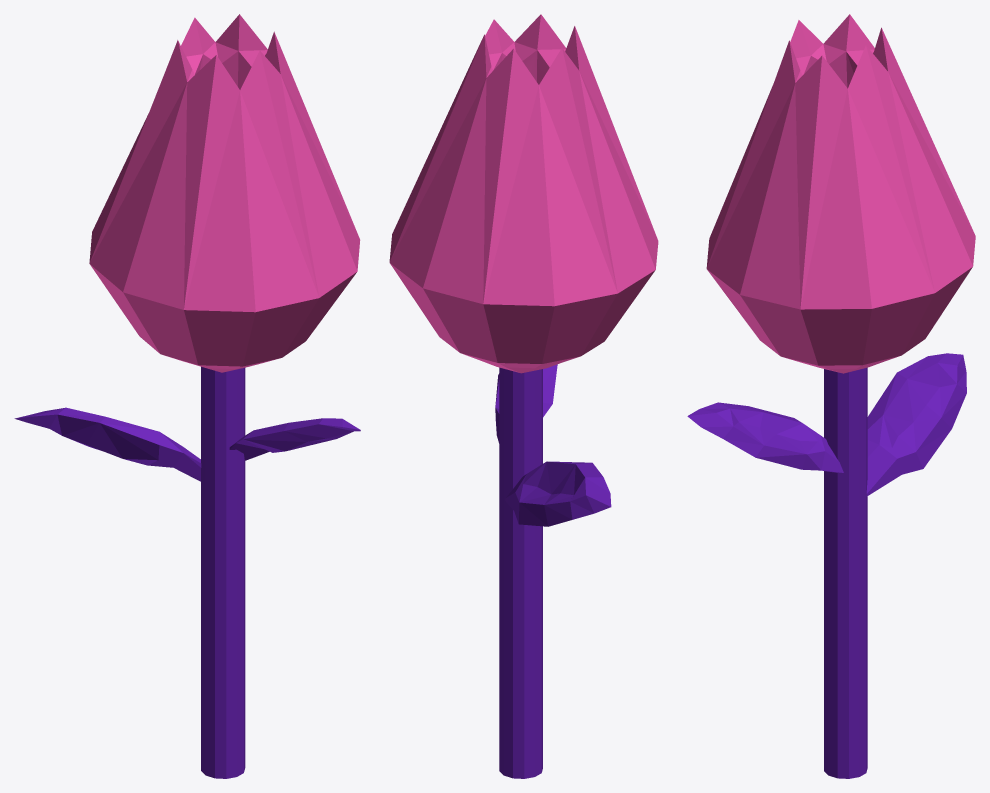
The model's file is tulip.glb.
3 renders of one model, left to right at view 1: azimuth 30°, elevation 25°; view 2: azimuth 150°, elevation 25°; view 3: azimuth 270°, elevation 25°, orthographic.
Visible parts, largest first — view 1: Blossom, Stem; view 2: Blossom, Stem; view 3: Blossom, Stem.
Boxes of the visible parts, x1,y1,x2,y2 form: Blossom: (89, 14, 360, 372); Stem: (14, 366, 360, 778); Blossom: (389, 14, 658, 373); Stem: (495, 364, 611, 778); Blossom: (706, 14, 975, 373); Stem: (687, 353, 966, 778).
Size of the model in its own units: 0.0928 by 0.2467 by 0.0875.
